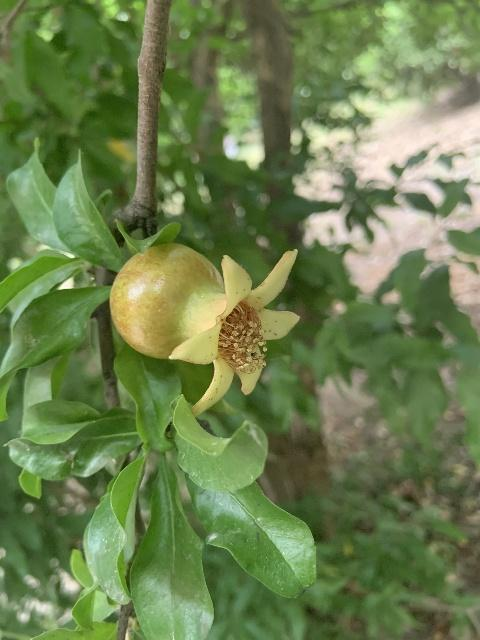early-fruit: (109, 242, 300, 415)
